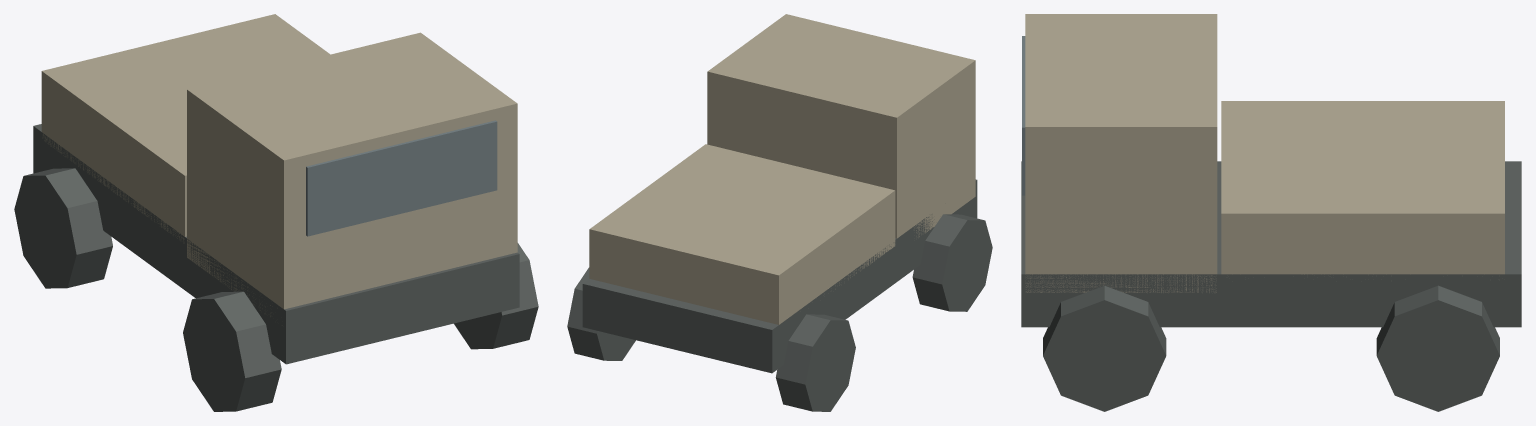
File: light-truck.glb
The picture shows the model from 3 angles, left to right: view 1: azimuth 30°, elevation 25°; view 2: azimuth 150°, elevation 25°; view 3: azimuth 270°, elevation 25°; orthographic projection. The views are drawn at different scales.
Parts seen in each view (by area): view 1: truckCab, truckBed, truckChassis, windshield, wheel.001, wheel, wheel.002; view 2: truckCab, truckBed, truckChassis, wheel, wheel.001, wheel.003; view 3: truckCab, truckBed, truckChassis, wheel.002, wheel.003, windshield.
Boxes of the visible parts, x1=… form: truckCab: x1=187, y1=32, x2=517, y2=325; truckBed: x1=41, y1=14, x2=330, y2=243; truckChassis: x1=33, y1=124, x2=519, y2=364; windshield: x1=306, y1=120, x2=497, y2=236; wheel.001: x1=14, y1=168, x2=112, y2=288; wheel: x1=183, y1=291, x2=281, y2=411; wheel.002: x1=454, y1=243, x2=538, y2=349; truckCab: x1=707, y1=14, x2=975, y2=238; truckBed: x1=589, y1=144, x2=895, y2=324; truckChassis: x1=582, y1=179, x2=977, y2=373; wheel: x1=912, y1=214, x2=992, y2=311; wheel.001: x1=775, y1=314, x2=855, y2=411; wheel.003: x1=567, y1=267, x2=635, y2=360; truckCab: x1=1025, y1=14, x2=1217, y2=292; truckBed: x1=1221, y1=101, x2=1504, y2=274; truckChassis: x1=1021, y1=161, x2=1521, y2=327; wheel.002: x1=1043, y1=285, x2=1166, y2=411; wheel.003: x1=1376, y1=285, x2=1499, y2=411; windshield: x1=1022, y1=36, x2=1025, y2=195.
Size of the model in its own units: 2.01 by 1.79 by 3.
